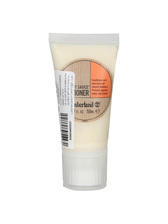other: (43, 30, 125, 196)
